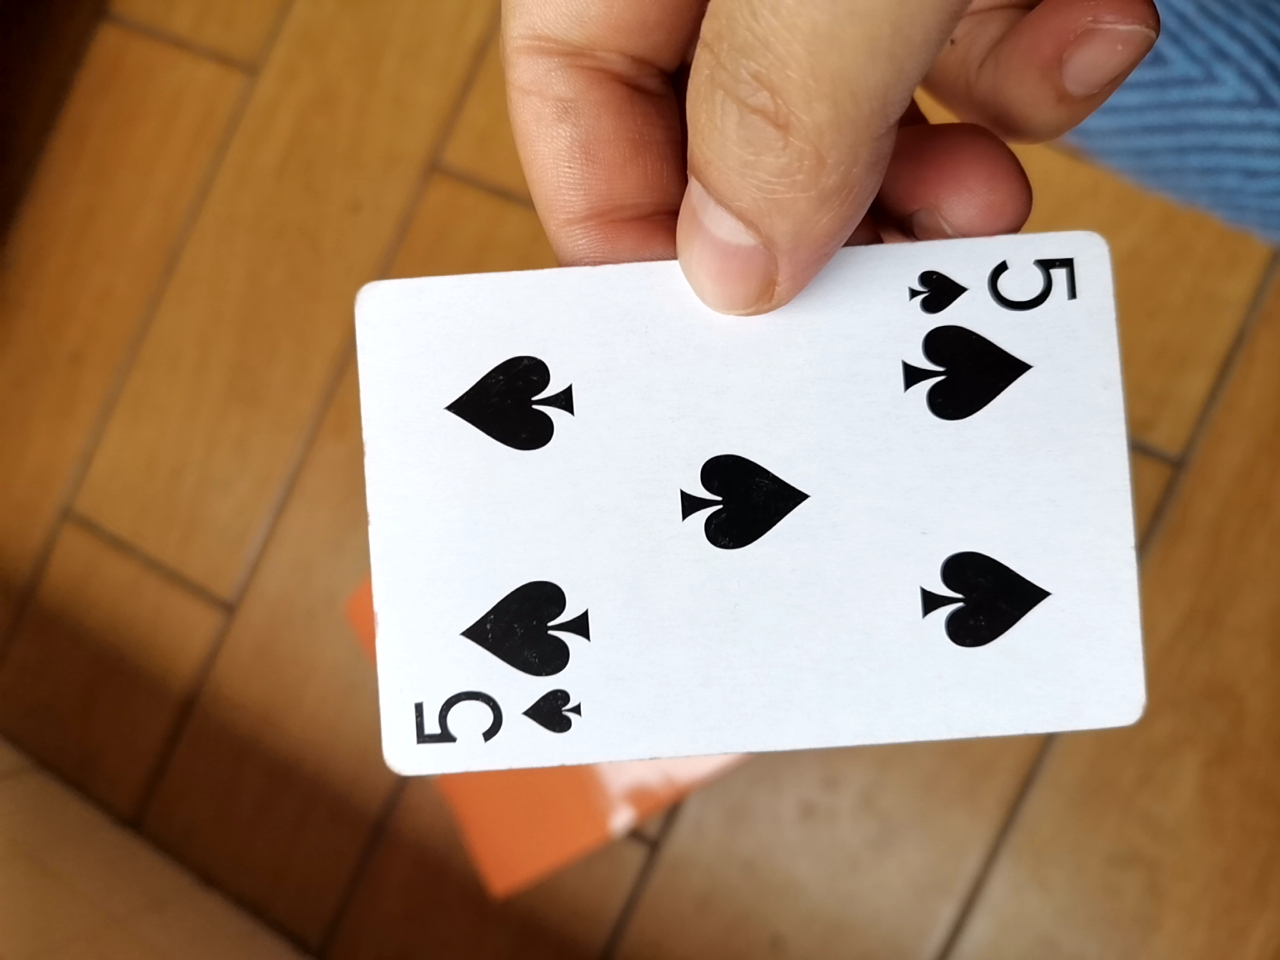ht 5: (336, 231, 1147, 795)
